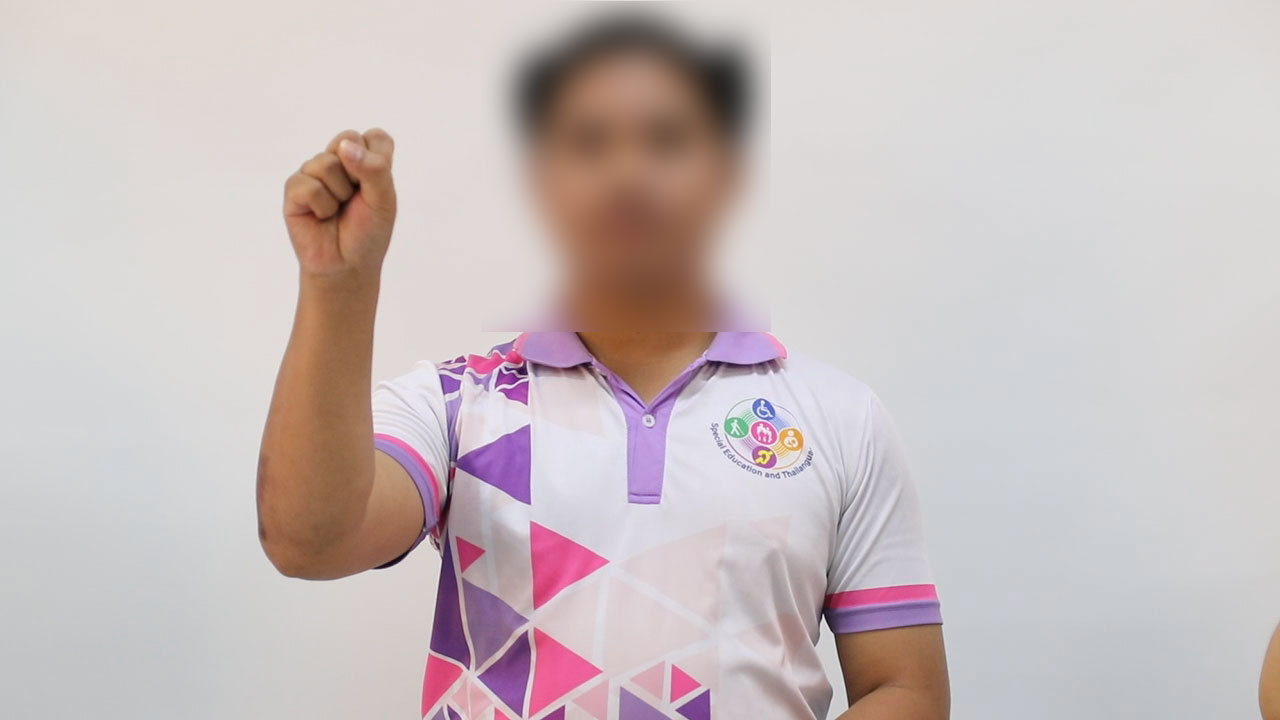sor: (267, 109, 414, 297)
